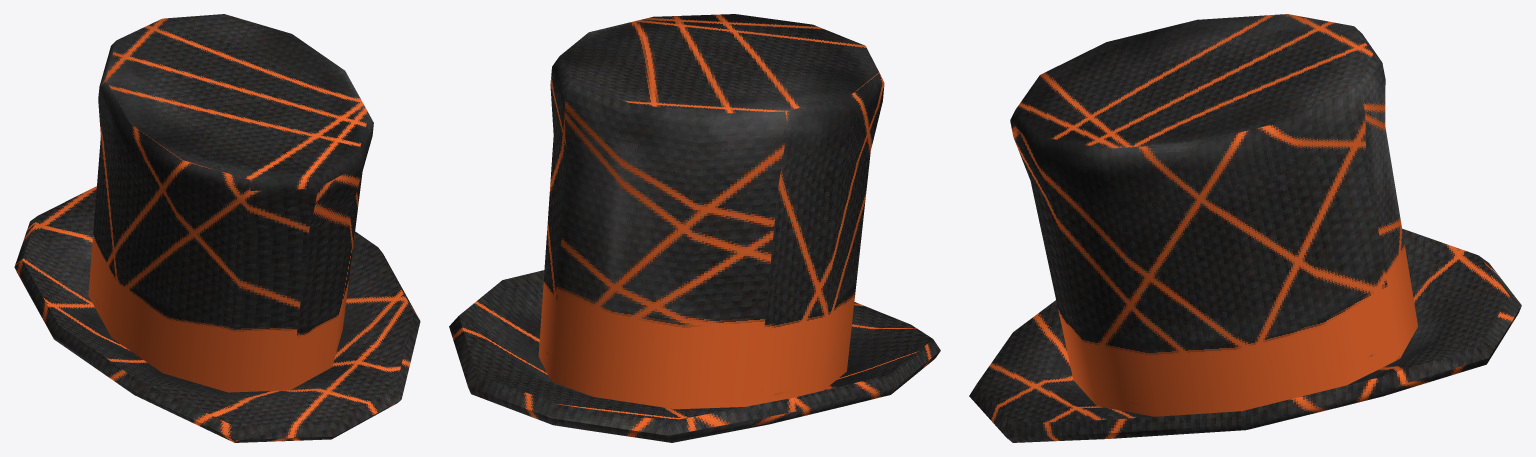
Rendered from orange_tophat.glb.
The picture shows the model from 3 angles, left to right: view 1: azimuth 30°, elevation 25°; view 2: azimuth 150°, elevation 25°; view 3: azimuth 270°, elevation 25°; orthographic projection. The views are drawn at different scales.
Visible parts, largest first — view 1: cosmetic_tophat; view 2: cosmetic_tophat; view 3: cosmetic_tophat.
Part boxes in pixels (x1,y1,x2,y2): cosmetic_tophat: (14,14,420,442); cosmetic_tophat: (449,14,940,442); cosmetic_tophat: (969,14,1521,442).
Bounding box in the file's own units: 0.7951 × 0.6917 × 0.9797.
Materials: 1 (1 with a texture image).
